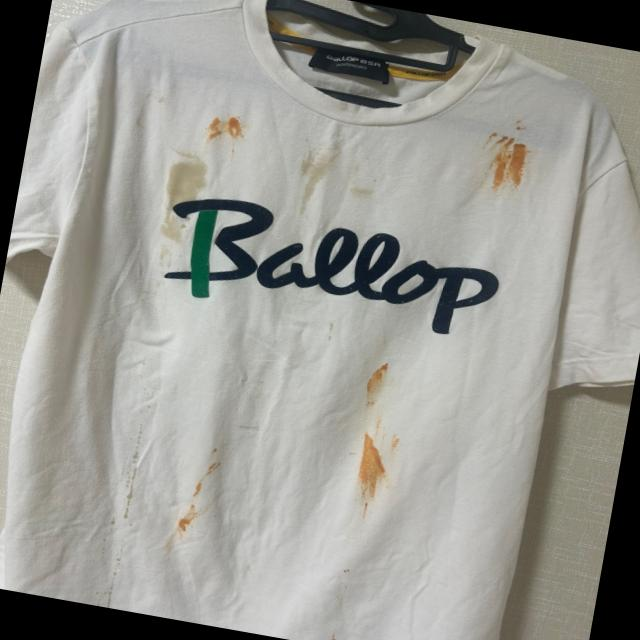stain: (276, 142, 346, 222), (462, 128, 538, 200), (156, 148, 207, 250), (108, 426, 154, 530), (347, 422, 396, 507), (176, 454, 224, 538), (198, 109, 254, 152), (356, 354, 394, 409), (97, 549, 132, 607), (343, 182, 395, 220), (511, 114, 537, 141), (320, 322, 348, 347), (338, 556, 360, 580), (206, 437, 227, 454), (321, 632, 355, 640)
